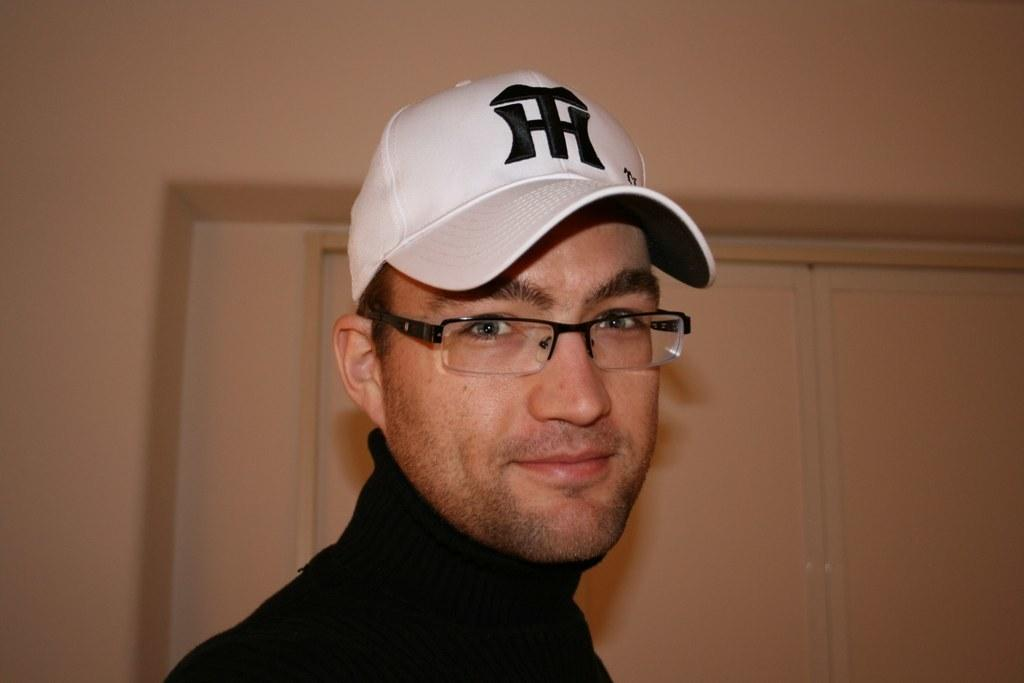Hat: (344, 67, 714, 306)
